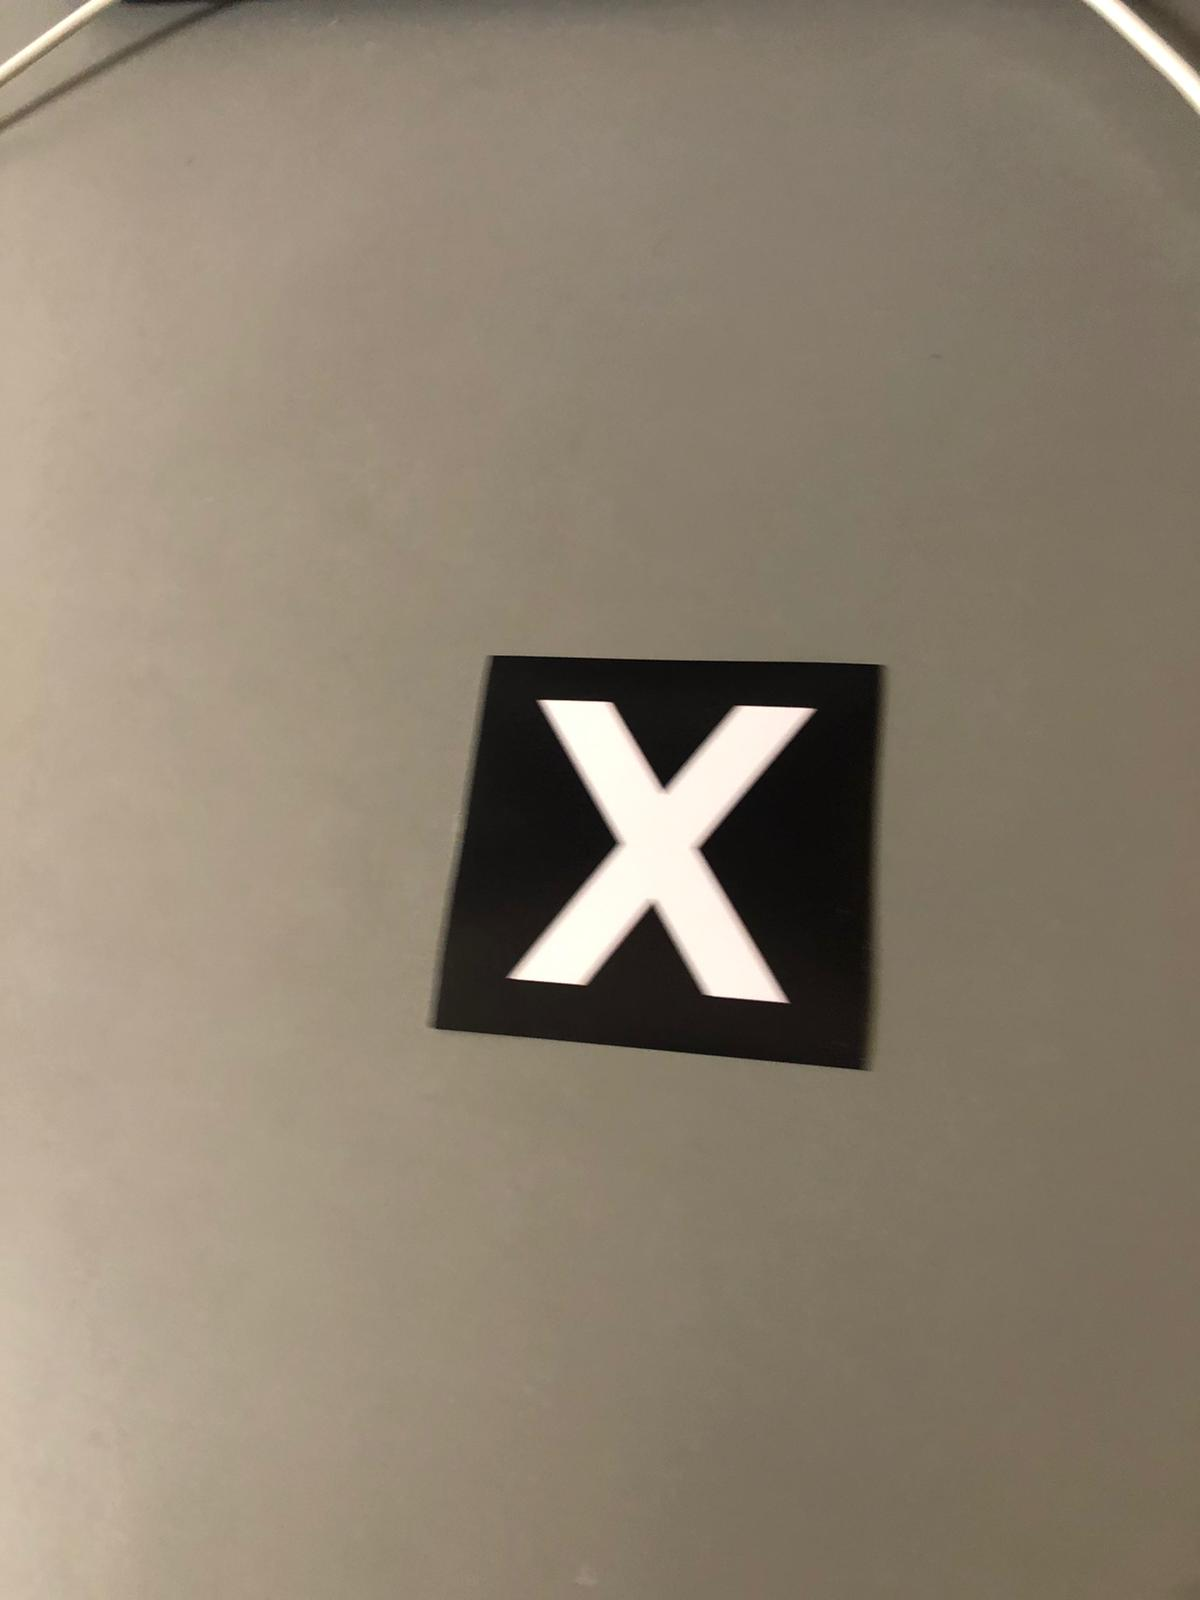X: (500, 670, 865, 1049)
